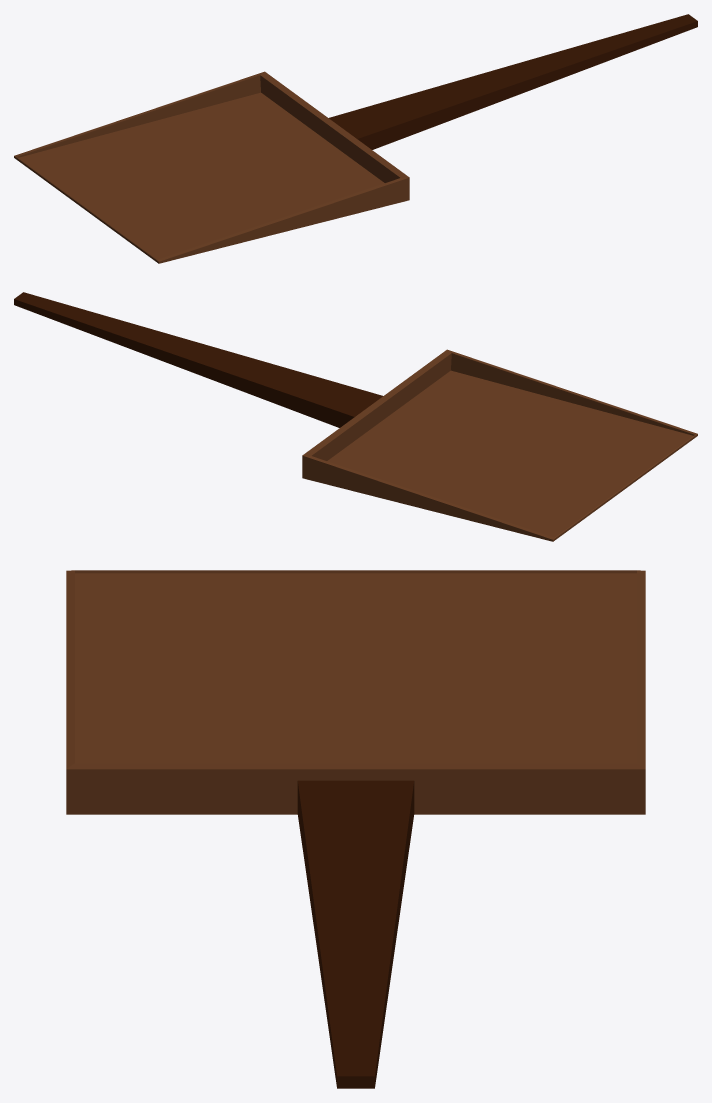
Rendered from Res01_PanStick.fbx.
The picture shows the model from 3 angles, top to bottom: view 1: azimuth 30°, elevation 25°; view 2: azimuth 150°, elevation 25°; view 3: azimuth 270°, elevation 25°; orthographic projection. The views are drawn at different scales.
Visible parts, largest first — view 1: Res01_PanStick; view 2: Res01_PanStick; view 3: Res01_PanStick.
Part boxes in pixels (<box>): Res01_PanStick: <box>14,14,697,263</box>; Res01_PanStick: <box>14,292,697,541</box>; Res01_PanStick: <box>66,570,645,1088</box>.
Size of the model in its own units: 64.78 by 4.61 by 26.78.
